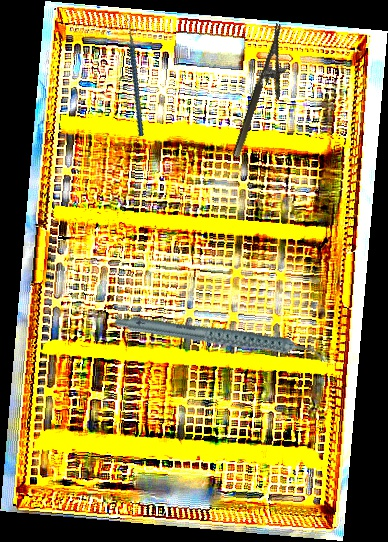Chopper: (95, 14, 169, 137)
Handpiece: (112, 275, 328, 405)
Needle Holder: (231, 23, 302, 164)
